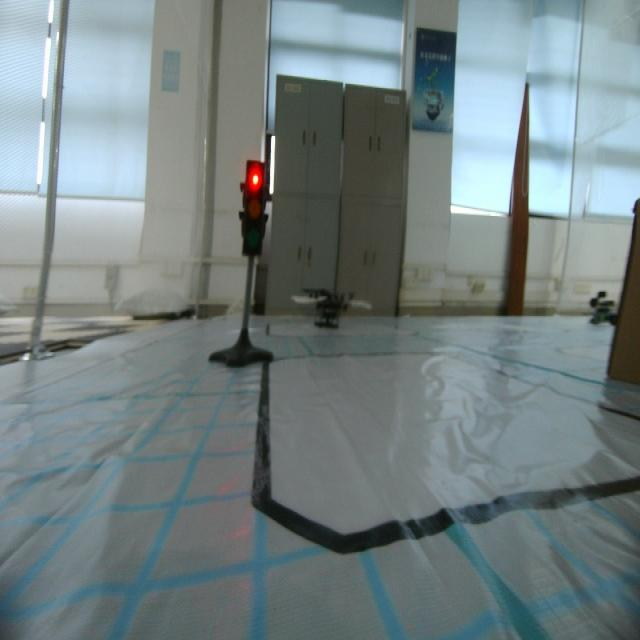red: (240, 158, 270, 260)
